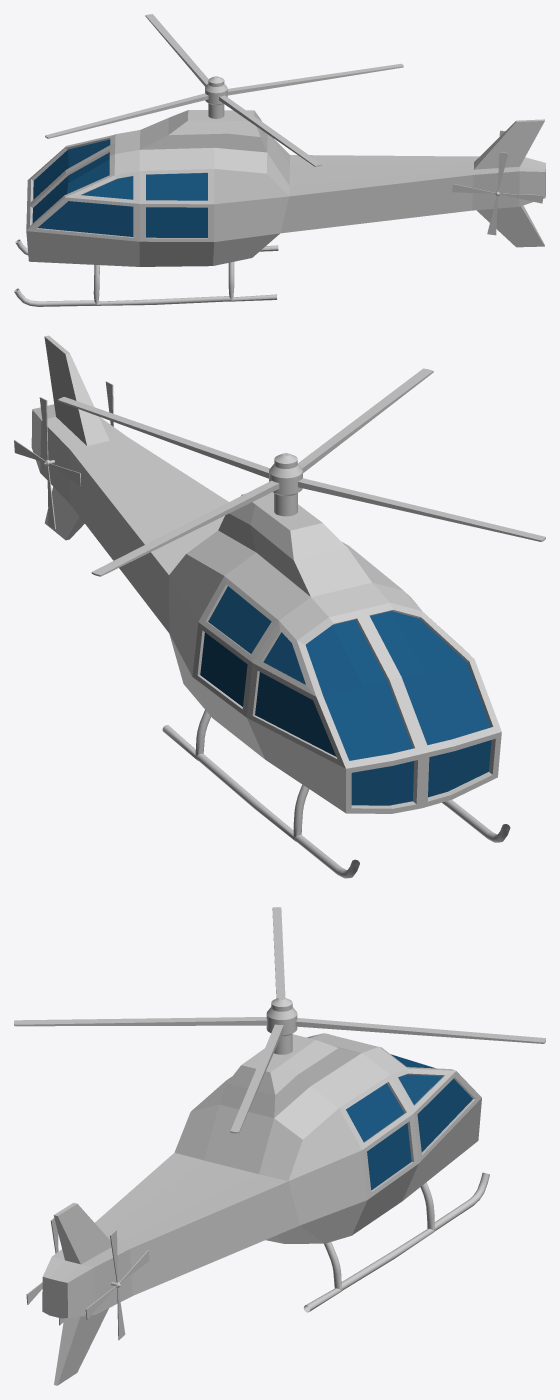
File: helicopter_animation_000148.obj
3 renders of one model, top to bottom at view 1: azimuth 30°, elevation 25°; view 2: azimuth 150°, elevation 25°; view 3: azimuth 270°, elevation 25°, orthographic. The views are drawn at different scales.
Parts seen in each view (by area): view 1: Helicopter.007_Cylinder.008, Helicopter.001_Cylinder.001, Helicopter.003_Cylinder.004; view 2: Helicopter.007_Cylinder.008, Helicopter.001_Cylinder.001, Helicopter.004_Cylinder.005; view 3: Helicopter.007_Cylinder.008, Helicopter.001_Cylinder.001, Helicopter.004_Cylinder.005.
Part boxes in pixels (bbox=[...]): Helicopter.007_Cylinder.008: bbox=[14, 110, 545, 306]; Helicopter.001_Cylinder.001: bbox=[45, 14, 403, 166]; Helicopter.003_Cylinder.004: bbox=[452, 152, 543, 235]; Helicopter.007_Cylinder.008: bbox=[31, 335, 510, 878]; Helicopter.001_Cylinder.001: bbox=[58, 368, 545, 576]; Helicopter.004_Cylinder.005: bbox=[14, 397, 80, 528]; Helicopter.007_Cylinder.008: bbox=[42, 1033, 489, 1385]; Helicopter.001_Cylinder.001: bbox=[14, 907, 545, 1133]; Helicopter.004_Cylinder.005: bbox=[85, 1229, 149, 1340].
Bounding box in the file's own units: 7.03 × 3.2 × 5.56.
